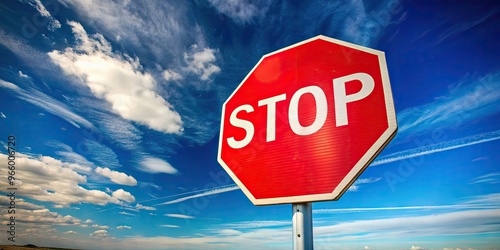StopSign: (217, 34, 398, 205)
